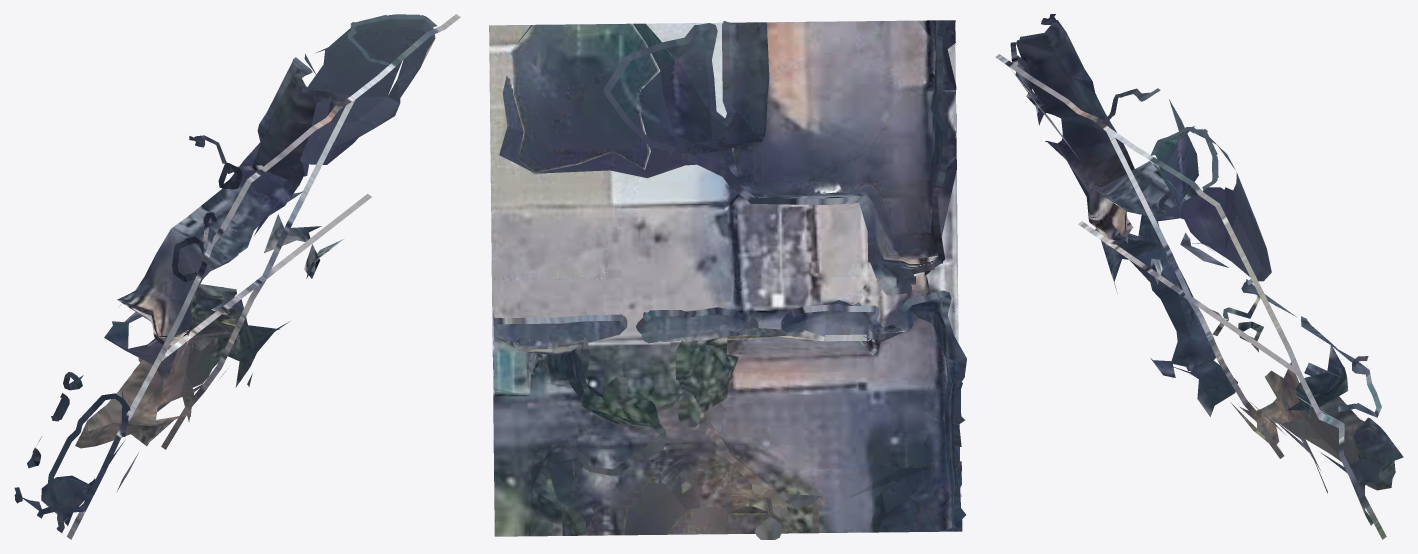
The picture shows the model from 3 angles, left to right: view 1: azimuth 30°, elevation 25°; view 2: azimuth 150°, elevation 25°; view 3: azimuth 270°, elevation 25°; orthographic projection. The views are drawn at different scales.
Bounding box in the file's own units: 40.73 × 37.17 × 33.86.
Materials: 2 (2 with a texture image).
